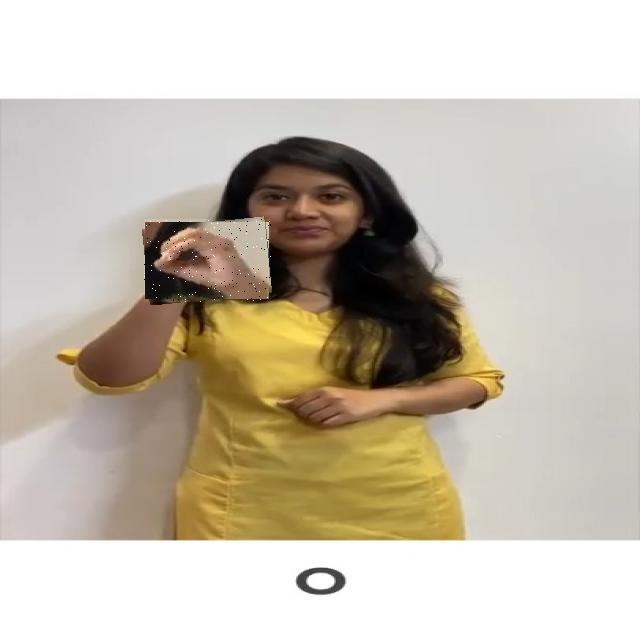O: (144, 219, 271, 302)
